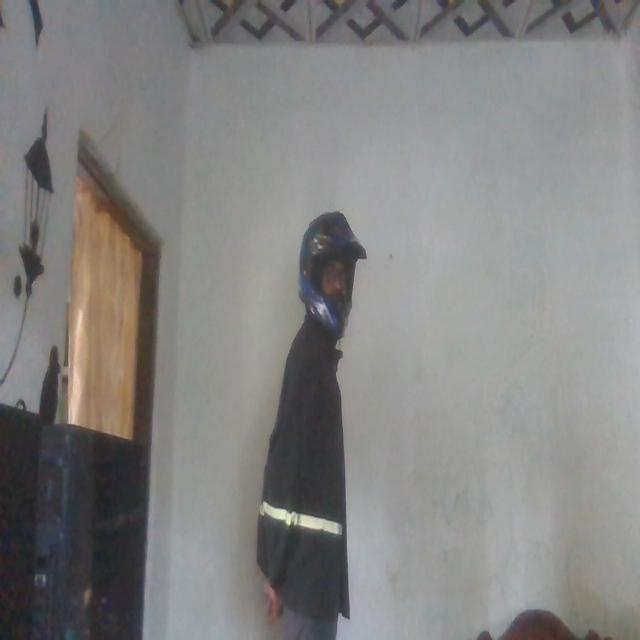Helmet_Wearer: (291, 206, 361, 323)
Jacket_Wearer: (257, 311, 351, 619)
Person: (249, 204, 379, 640)
